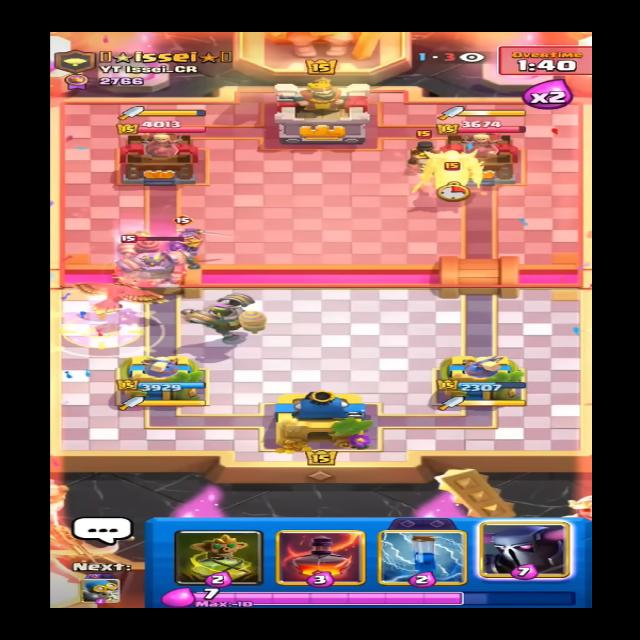EvoKnight: (152, 212, 226, 262)
Goblinmachine: (114, 231, 196, 287)
Pekka: (407, 147, 490, 201)
Ramrider: (398, 128, 443, 173)
